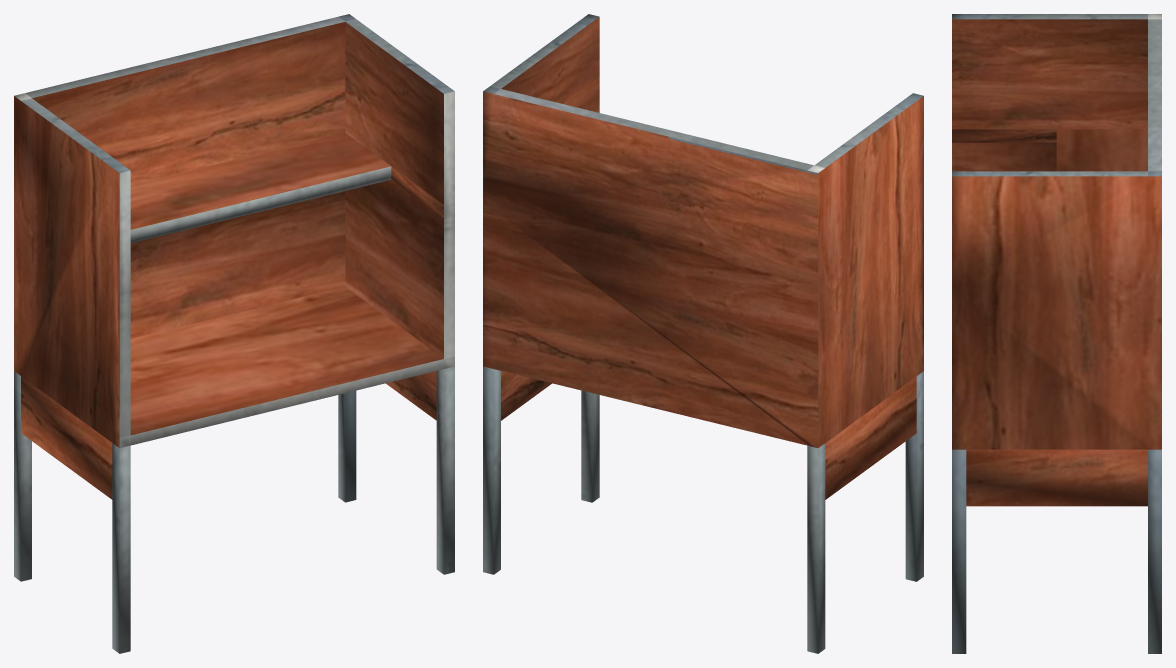
The model's file is library_station.obj.
3 views of the same model, side by side, from view 1: azimuth 30°, elevation 25°; view 2: azimuth 150°, elevation 25°; view 3: azimuth 270°, elevation 25° (orthographic).
Parts seen in each view (by area): view 1: library_station.obj; view 2: library_station.obj; view 3: library_station.obj.
Boxes of the visible parts, bbox=[...] form: library_station.obj: bbox=[14, 14, 454, 653]; library_station.obj: bbox=[483, 14, 923, 653]; library_station.obj: bbox=[952, 14, 1161, 653].
Bounding box in the file's own units: 7.19 × 9.85 × 3.93.
